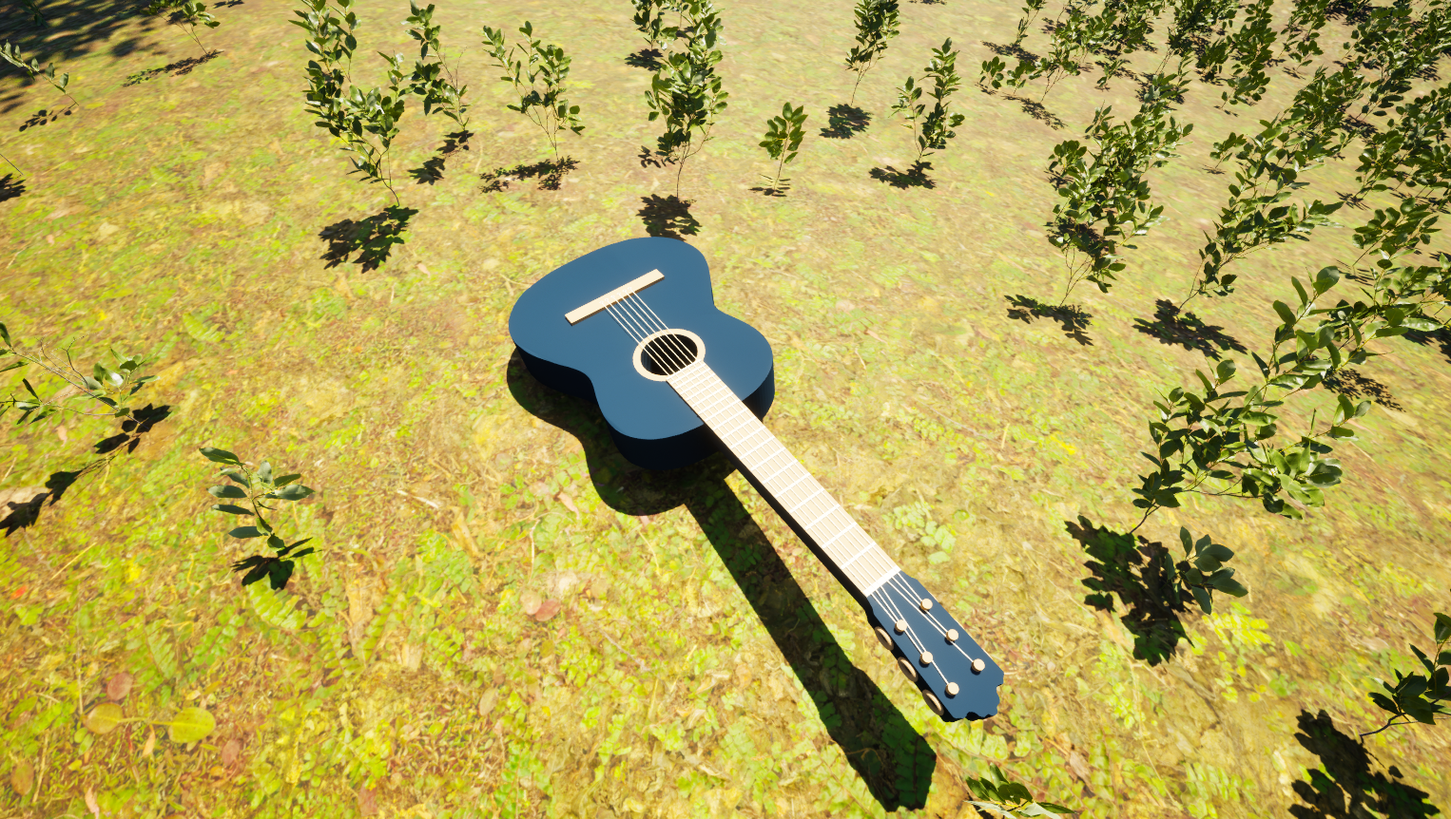Guitar: (448, 138, 1135, 819)
